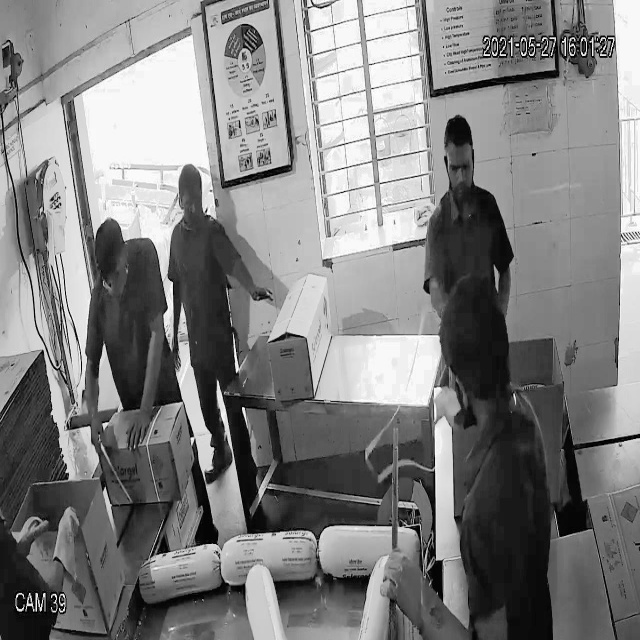Sin_gafas: (440, 148, 478, 182)
